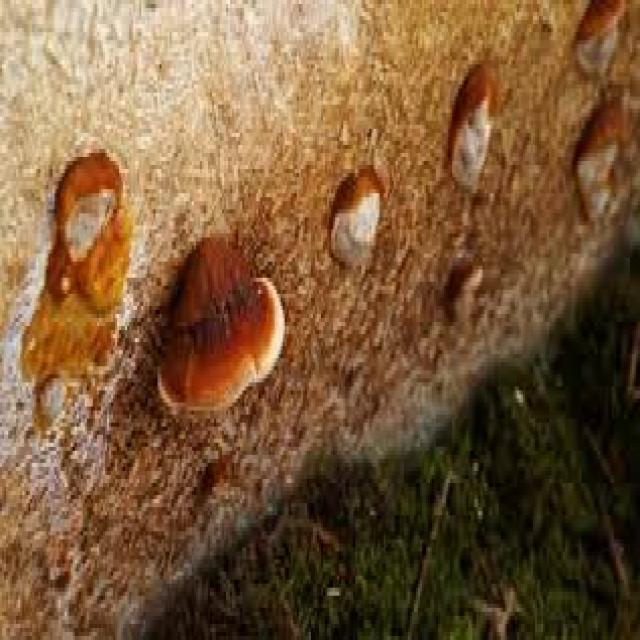Wet: (144, 158, 296, 470), (14, 95, 134, 426), (569, 0, 640, 242), (312, 116, 403, 295), (437, 36, 502, 180), (444, 239, 503, 358)
